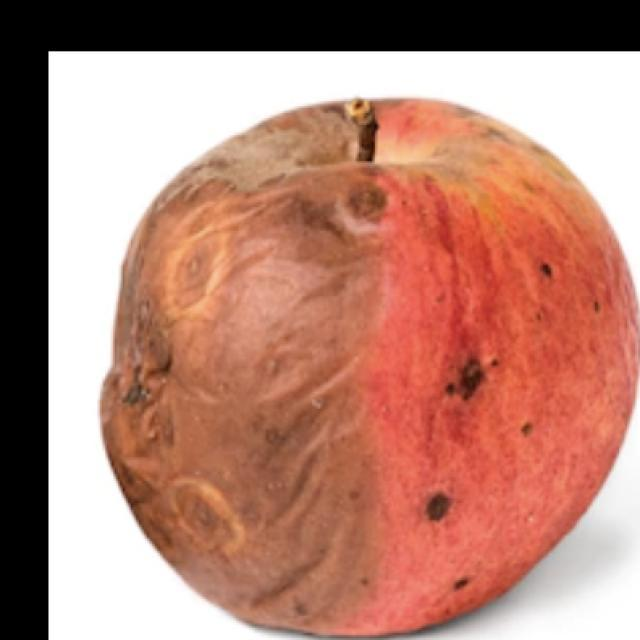Rotten: (131, 91, 611, 640)
